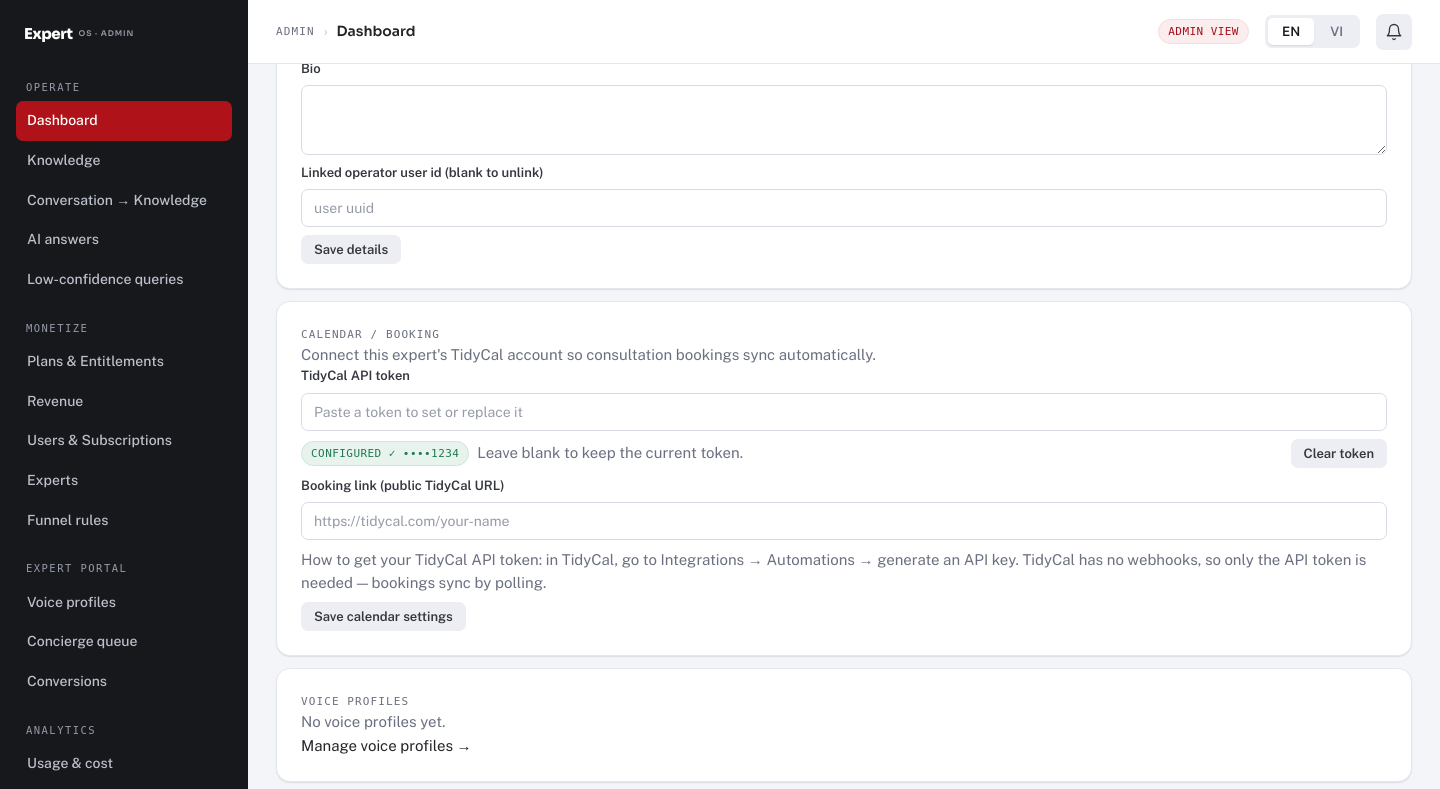
Test: CalendarEditor — save › clears the token via apiToken: null
(page scrolled)
Click the button "Clear token" at (1339, 453), box [1290, 439, 1387, 468]
(page scrolled)
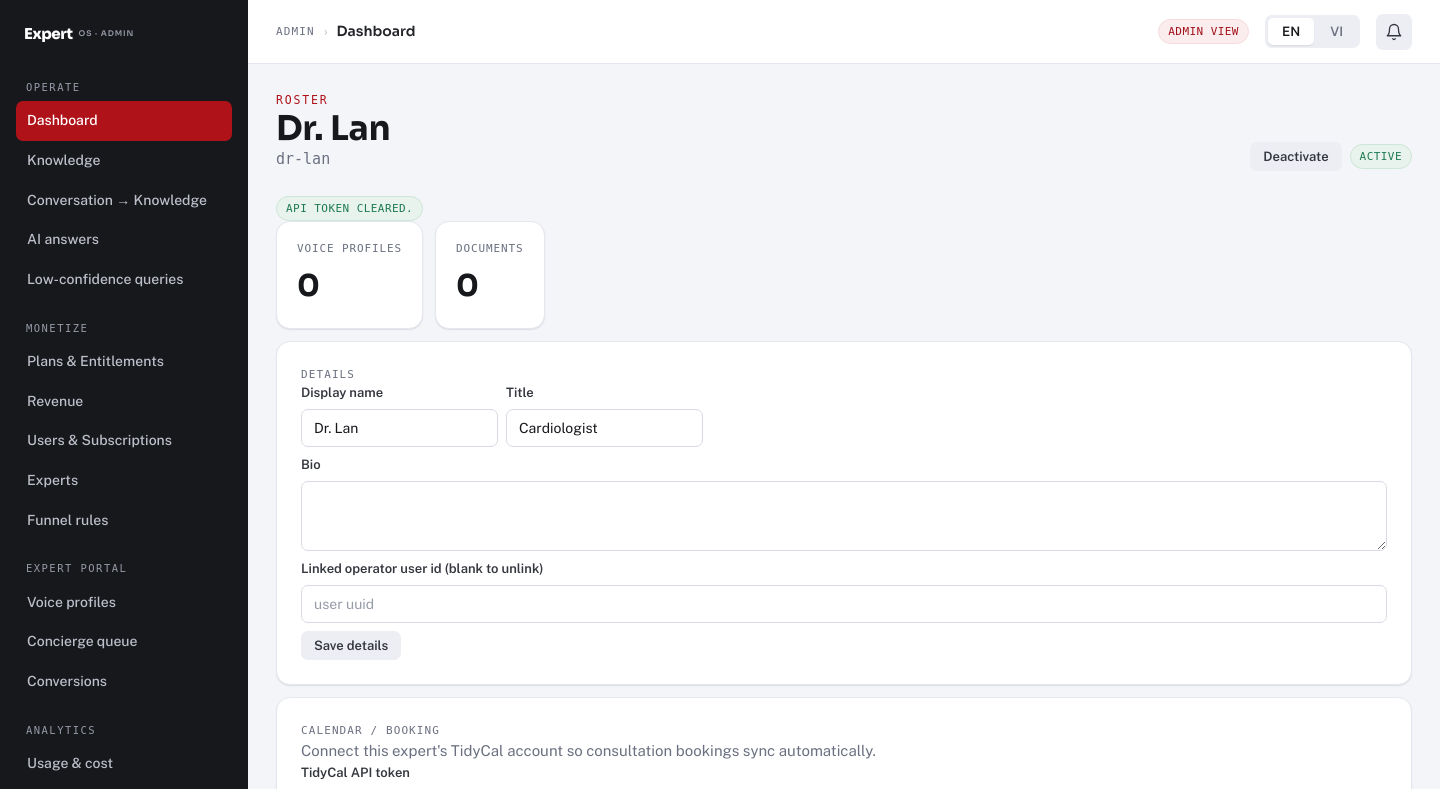
Check: the text "API token cleared." is shown, box [276, 196, 423, 221]
